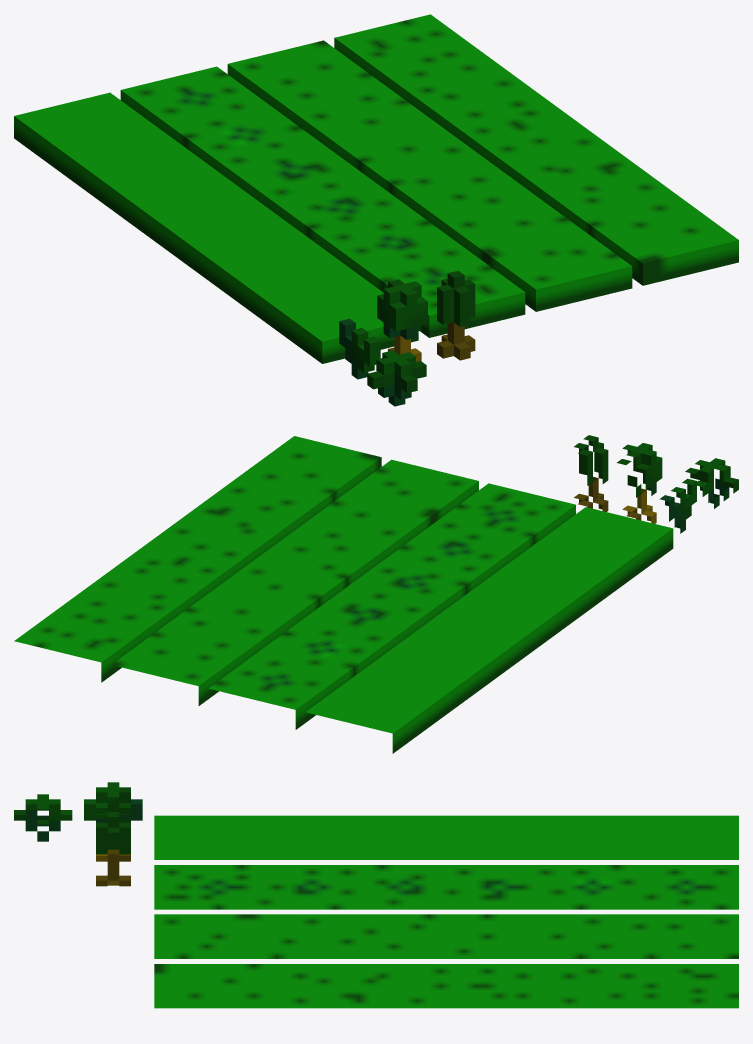
File: GroundTileSet_Forest.fbx
The picture shows the model from 3 angles, top to bottom: view 1: azimuth 30°, elevation 25°; view 2: azimuth 150°, elevation 25°; view 3: azimuth 270°, elevation 25°; orthographic projection. The views are drawn at different scales.
Parts seen in each view (by area): view 1: GroundTile_Forest, GroundTile_Forest_2, GroundTile_Forest_3, GroundTile_Forest_1, Obstacle_Forest_Tree_2, Obstacle_Forest_Tree_1, Obstacle_Forest_bush_2, Obstacle_Forest_bush_1; view 2: GroundTile_Forest, GroundTile_Forest_1, GroundTile_Forest_3, GroundTile_Forest_2, Obstacle_Forest_Tree_1, Obstacle_Forest_Tree_2, Obstacle_Forest_bush_2, Obstacle_Forest_bush_1; view 3: GroundTile_Forest, GroundTile_Forest_1, GroundTile_Forest_2, GroundTile_Forest_3, Obstacle_Forest_Tree_2, Obstacle_Forest_bush_2, Obstacle_Forest_Tree_1, Obstacle_Forest_bush_1.
Boxes of the visible parts, left/top/right/bottom form: GroundTile_Forest: left=14, top=92, right=418, bottom=363; GroundTile_Forest_2: left=227, top=40, right=632, bottom=311; GroundTile_Forest_3: left=334, top=14, right=738, bottom=285; GroundTile_Forest_1: left=120, top=66, right=525, bottom=337; Obstacle_Forest_Tree_2: left=437, top=270, right=475, bottom=360; Obstacle_Forest_Tree_1: left=377, top=279, right=427, bottom=361; Obstacle_Forest_bush_2: left=367, top=350, right=426, bottom=406; Obstacle_Forest_bush_1: left=339, top=318, right=380, bottom=379; GroundTile_Forest: left=306, top=507, right=673, bottom=753; GroundTile_Forest_1: left=208, top=483, right=575, bottom=729; GroundTile_Forest_3: left=14, top=436, right=381, bottom=682; GroundTile_Forest_2: left=111, top=459, right=478, bottom=705; Obstacle_Forest_Tree_1: left=617, top=443, right=662, bottom=523; Obstacle_Forest_Tree_2: left=574, top=435, right=608, bottom=511; Obstacle_Forest_bush_2: left=685, top=458, right=738, bottom=508; Obstacle_Forest_bush_1: left=659, top=478, right=696, bottom=533; GroundTile_Forest: left=154, top=815, right=738, bottom=859; GroundTile_Forest_1: left=154, top=865, right=738, bottom=909; GroundTile_Forest_2: left=154, top=914, right=738, bottom=958; GroundTile_Forest_3: left=154, top=964, right=738, bottom=1008; Obstacle_Forest_Tree_2: left=96, top=812, right=130, bottom=886; Obstacle_Forest_bush_2: left=14, top=794, right=72, bottom=841; Obstacle_Forest_Tree_1: left=96, top=782, right=130, bottom=861; Obstacle_Forest_bush_1: left=84, top=799, right=142, bottom=820.
Size of the model in its own units: 40 by 7 by 62.
1 material, 1 textured.
